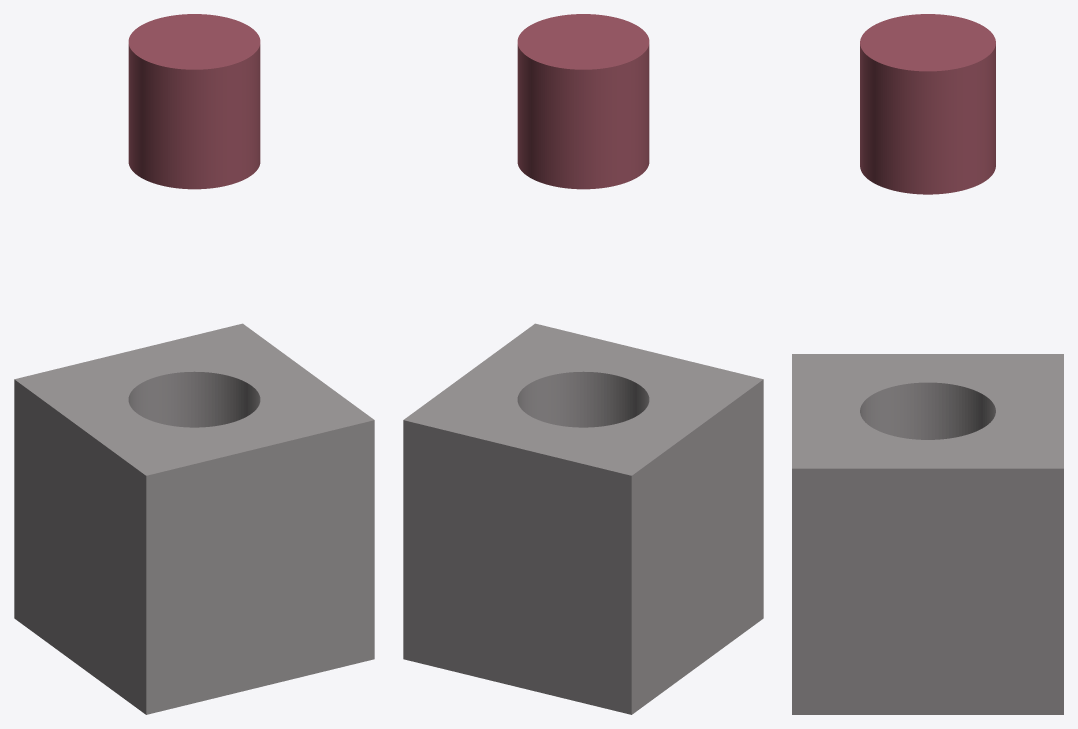
The model's file is bohrung_wuerfel.glb.
3 views of the same model, side by side, from view 1: azimuth 30°, elevation 25°; view 2: azimuth 150°, elevation 25°; view 3: azimuth 270°, elevation 25° (orthographic). The views are drawn at different scales.
Parts seen in each view (by area): view 1: Wuerfel_Bohrung, Borhung_fuer_Wuerfel; view 2: Wuerfel_Bohrung, Borhung_fuer_Wuerfel; view 3: Wuerfel_Bohrung, Borhung_fuer_Wuerfel.
Boxes of the visible parts, x1,y1,x2,y2 form: Wuerfel_Bohrung: (14,323,374,714); Borhung_fuer_Wuerfel: (128,14,260,189); Wuerfel_Bohrung: (403,323,763,714); Borhung_fuer_Wuerfel: (517,14,649,189); Wuerfel_Bohrung: (792,354,1063,714); Borhung_fuer_Wuerfel: (860,14,995,194).
Bounding box in the file's own units: 22.66 × 56.56 × 22.66.
